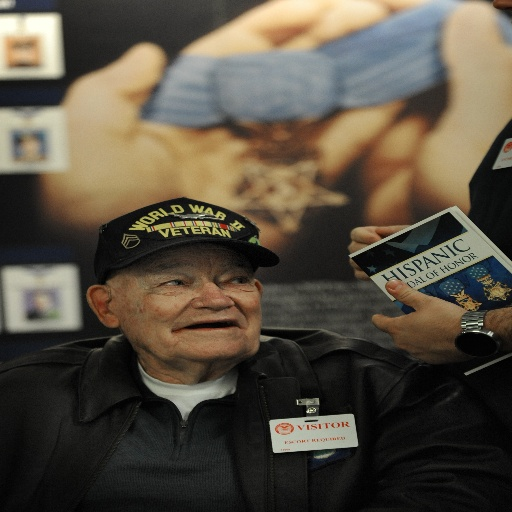hand: (31, 0, 417, 257), (354, 0, 511, 196), (374, 285, 495, 364), (347, 223, 407, 281)
